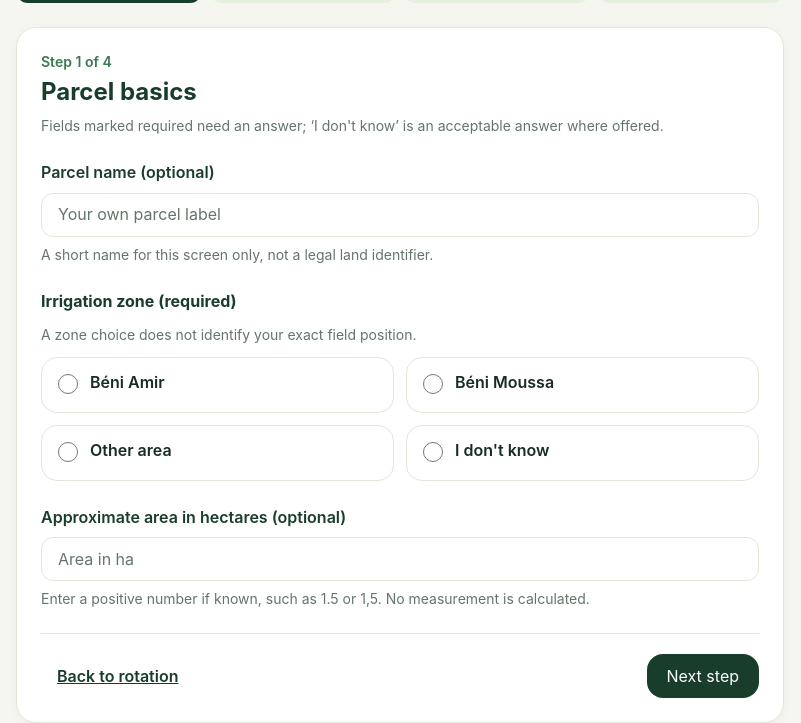
it: M2 guided parcel form › validates an entered area and preserves it on Back/Next
(page scrolled)
Type "0" into the field labelled "Approximate area in hectares (optional)". click: (400, 559)
box: [41, 537, 759, 581]
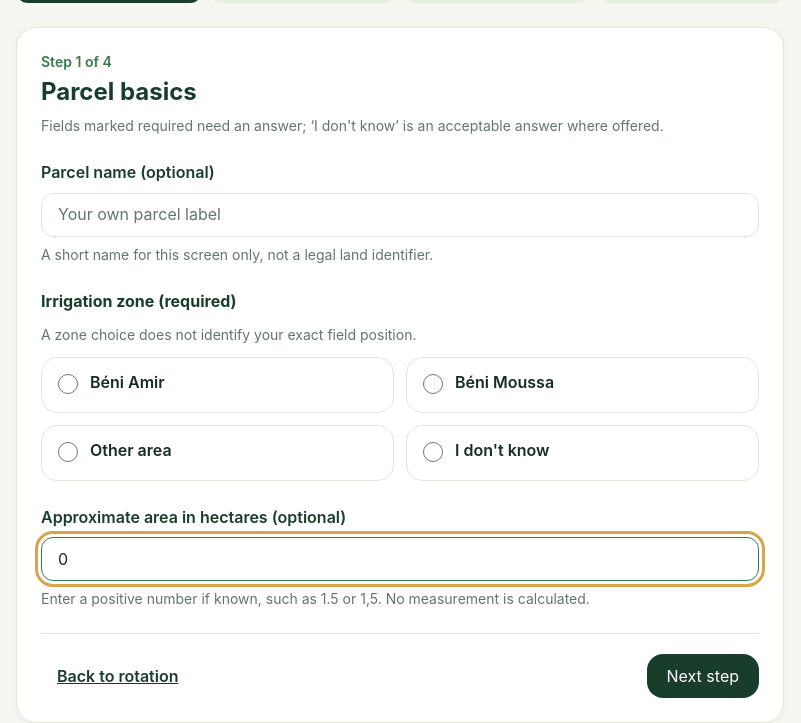
Click the radio button labelled "Béni Moussa". click: (433, 384)
box: [423, 374, 443, 394]
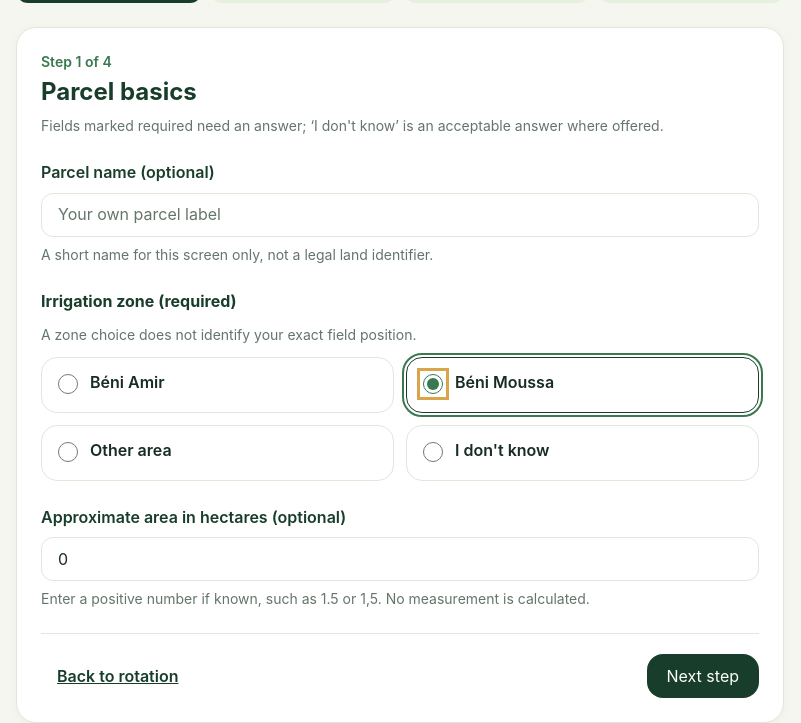
Click the button "Next step". click: (703, 676)
box: [646, 654, 759, 698]
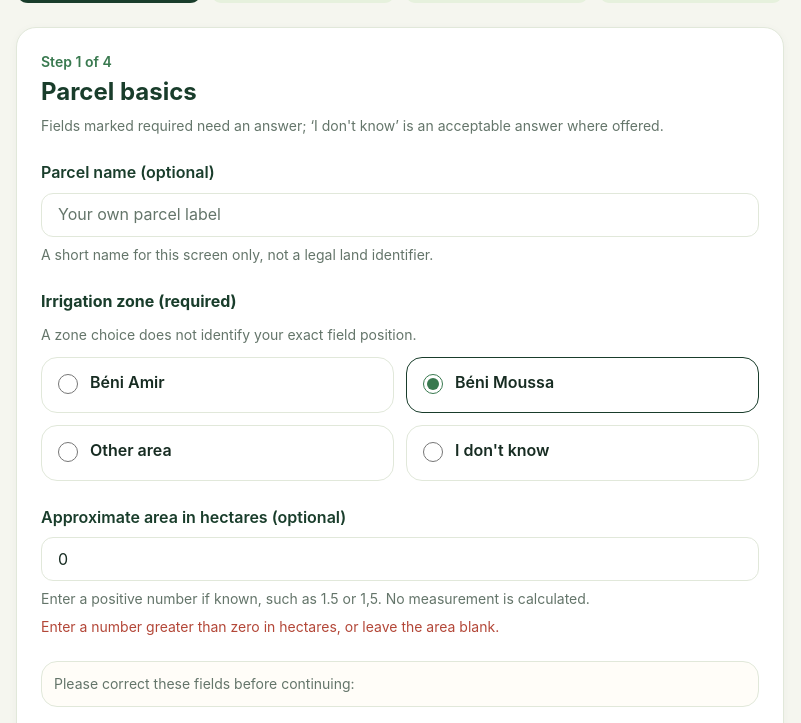
Check: the text "Enter a number greater than zero in hectares, or leave the area blank." is shown, box [41, 618, 499, 635]
Replace the text in the field labelled "Approximate area in hectares (optional)" with "1,5". click: (400, 559)
box: [41, 537, 759, 581]
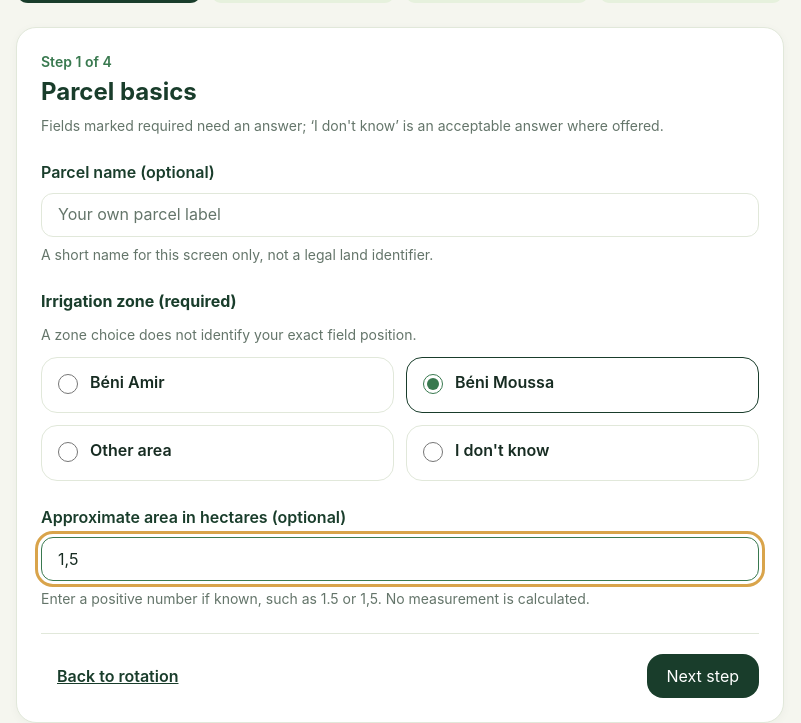
Click the button "Next step". click: (703, 676)
box: [646, 654, 759, 698]
(page scrolled)
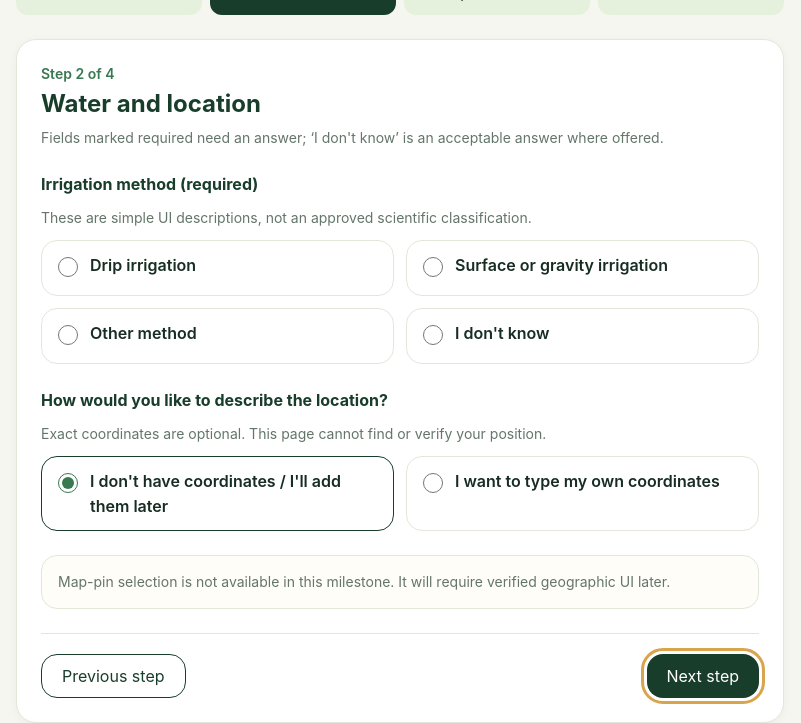
Click the button "Previous step". click: (113, 676)
box: [41, 654, 186, 698]
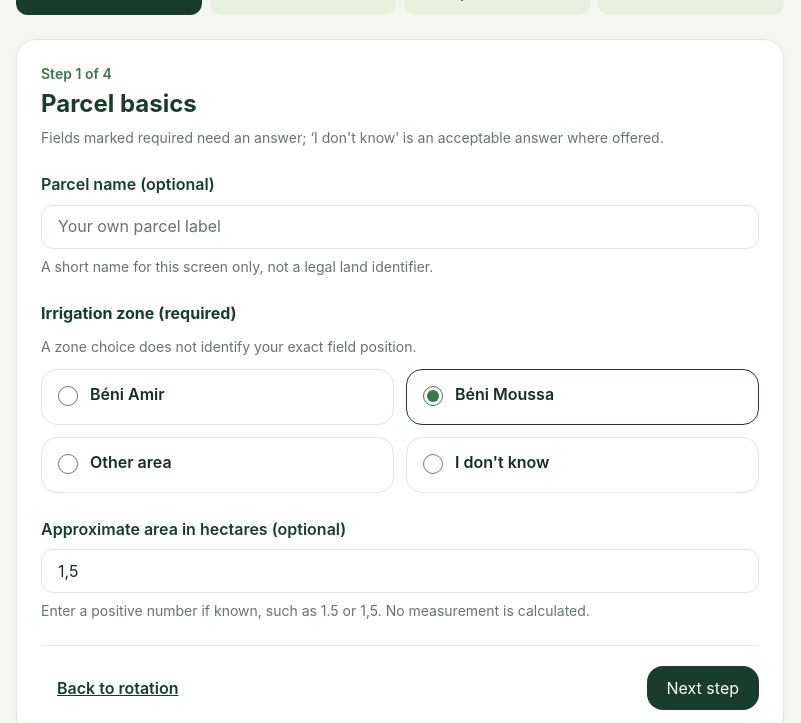
Check: the field labelled "Approximate area in hectares (optional)" holds "1,5", box [41, 549, 759, 593]
Check: the radio button labelled "Béni Moussa" is checked, box [423, 386, 443, 406]
